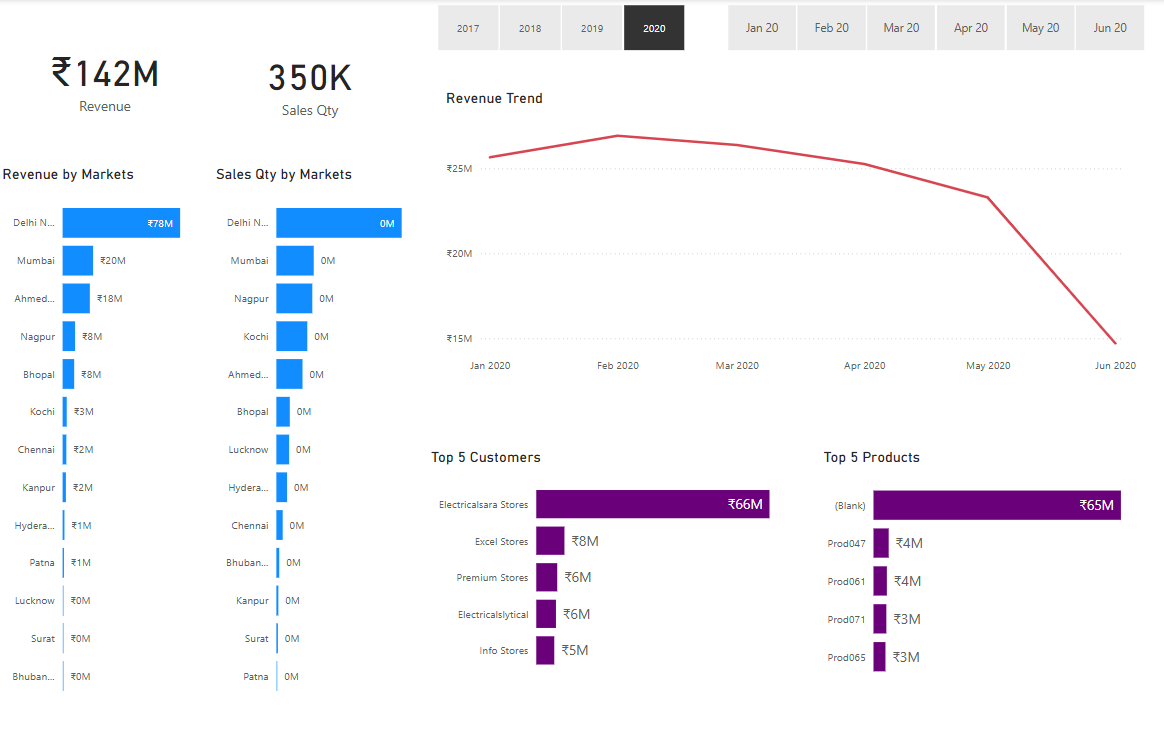

The dashboard page shown, as its layout file describes it:
{"tool":"powerbi","page":{"name":"Key Insights","canvas":[1350,850],"ordinal":0},"visuals":[{"type":"card","fields":{"Values":["BaseMeasures (2).Revenue"]},"box":[0,0,247.9,184.6],"z":0},{"type":"card","fields":{"Values":["BaseMeasures (2).Sales Qty"]},"box":[247.9,0,227.9,193.1],"z":1000},{"type":"barChart","title":"Revenue by Markets","fields":{"Y":["BaseMeasures (2).Revenue"],"Category":["sales markets.markets_name"]},"box":[0,193.1,247.9,631.9],"z":2000},{"type":"barChart","title":"Sales Qty by Markets","fields":{"Y":["BaseMeasures (2).Sales Qty"],"Category":["sales markets.markets_name"]},"box":[247.9,193.1,247.9,631.9],"z":3000},{"type":"slicer","fields":{"Values":["sales date.year"]},"box":[483.2,0,335.5,66.5],"z":4000},{"type":"slicer","fields":{"Values":["sales date.cy_date"]},"box":[818.6,0,531.7,66.5],"z":5000},{"type":"barChart","title":"Top 5 Customers","fields":{"Y":["BaseMeasures (2).Revenue"],"Category":["sales customers.custmer_name"]},"box":[495.8,519,446.2,274.3],"z":6000},{"type":"barChart","title":"Top 5 Products","fields":{"Y":["BaseMeasures (2).Revenue"],"Category":["sales products.product_code"]},"box":[950.7,519.2,399.5,282.8],"z":7000},{"type":"lineChart","title":"Revenue Trend","fields":{"Y":["BaseMeasures (2).Revenue"],"Category":["sales date.cy_date"]},"box":[513.8,104.4,809.1,338.6],"z":8000}]}

Visuals, with their boxes in screenshot pixels (x1, y1, x2, y2), scaled from the page's 1350x850 canvas onto the 1164x731 screenshot:
card - BaseMeasures (2).Revenue: l=0, t=0, r=214, b=159
card - BaseMeasures (2).Sales Qty: l=214, t=0, r=410, b=166
"Revenue by Markets" barChart: l=0, t=166, r=214, b=710
"Sales Qty by Markets" barChart: l=214, t=166, r=427, b=710
slicer - sales date.year: l=417, t=0, r=706, b=57
slicer - sales date.cy_date: l=706, t=0, r=1163, b=57
"Top 5 Customers" barChart: l=427, t=446, r=812, b=682
"Top 5 Products" barChart: l=820, t=447, r=1163, b=690
"Revenue Trend" lineChart: l=443, t=90, r=1141, b=381
